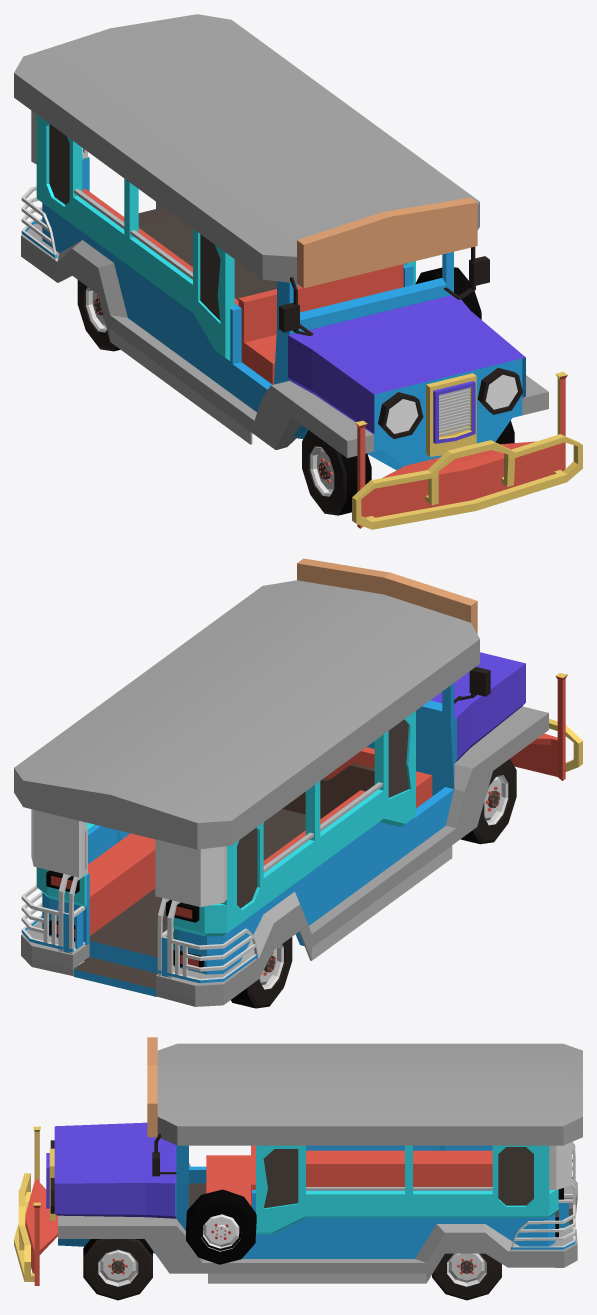
Rendered from jeep_separated.fbx.
3 views of the same model, one above another, from view 1: azimuth 30°, elevation 25°; view 2: azimuth 150°, elevation 25°; view 3: azimuth 270°, elevation 25° (orthographic). The views are drawn at different scales.
Parts seen in each view (by area): view 1: jeep_body, tire_R_front, tire_R_bot; view 2: jeep_body, tire_R_front, tire_R_bot; view 3: jeep_body, tire_L_front, tire_L_bot.
Part boxes in pixels (left/top/right/bottom): jeep_body: left=14, top=14, right=582, bottom=529; tire_R_front: left=302, top=430, right=371, bottom=515; tire_R_bot: left=77, top=280, right=120, bottom=351; jeep_body: left=14, top=558, right=582, bottom=1006; tire_R_front: left=460, top=759, right=516, bottom=844; tire_R_bot: left=231, top=937, right=292, bottom=1008; jeep_body: left=14, top=1037, right=582, bottom=1285; tire_L_front: left=83, top=1239, right=152, bottom=1300; tire_L_bot: left=432, top=1253, right=501, bottom=1300.
Bounding box in the file's own units: 270 × 291 × 736.
1 material, 1 textured.
